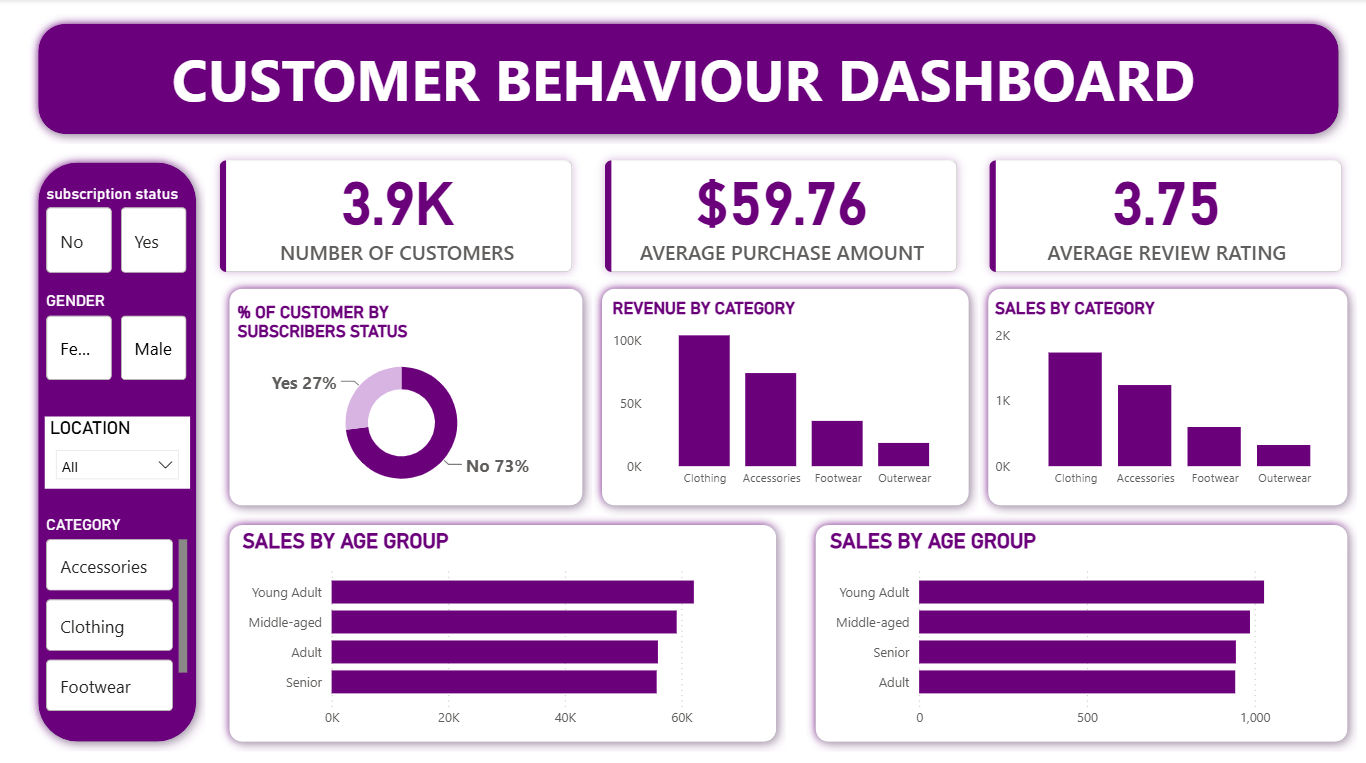

This screenshot's page, from the dashboard's own definition file:
{"tool":"powerbi","page":{"name":"Page 1","canvas":[1280,720],"ordinal":0},"visuals":[{"type":"cardVisual","fields":{"Data":["customer_behavior customer.Number of Customers","customer_behavior customer.Average Purchase Amount","customer_behavior customer.Average Review Rating"]},"box":[180.2,122.1,1100,160.5],"z":0},{"type":"shape","box":[30.2,14,1227.9,120.9],"z":1000},{"type":"textbox","box":[25.6,32.6,1227.9,82.6],"z":2000},{"type":"shape","box":[208.1,260.5,346.5,219.8],"z":3000},{"type":"donutChart","title":"% OF CUSTOMER BY SUBSCRIBERS STATUS","fields":{"Category":["customer_behavior customer.subscription_status"],"Y":["CountNonNull(customer_behavior customer.customer_id)"]},"box":[219.8,282.6,315.1,183.7],"z":4000},{"type":"shape","box":[554.7,260.5,359.3,219.8],"z":5000},{"type":"shape","box":[914,260.5,352.3,219.8],"z":6000},{"type":"clusteredColumnChart","title":"REVENUE BY CATEGORY","fields":{"Y":["Sum(customer_behavior customer.purchase_amount)"],"Category":["customer_behavior customer.category"]},"box":[568.6,279.1,331.4,183.7],"z":7000},{"type":"clusteredColumnChart","title":"SALES BY CATEGORY","fields":{"Y":["CountNonNull(customer_behavior customer.customer_id)"],"Category":["customer_behavior customer.category"]},"box":[924.4,279.1,331.4,183.7],"z":8000},{"type":"shape","box":[30.2,143,165.1,557],"z":9000},{"type":"advancedSlicerVisual","title":"subscription status","fields":{"Values":["customer_behavior customer.subscription_status"]},"box":[41.9,172.1,141.9,88.4],"z":10000},{"type":"advancedSlicerVisual","title":"GENDER","fields":{"Values":["customer_behavior customer.gender"]},"box":[41.9,272.1,141.9,88.4],"z":11000},{"type":"advancedSlicerVisual","title":"CATEGORY","fields":{"Values":["customer_behavior customer.category"]},"box":[41.9,480.2,141.9,188.4],"z":12000},{"type":"slicer","title":"LOCATION","fields":{"Values":["customer_behavior customer.location"]},"box":[45.3,388.4,134.9,67.4],"z":13000},{"type":"shape","box":[208.1,480.2,526.7,219.8],"z":14000},{"type":"clusteredBarChart","title":"SALES BY AGE GROUP","fields":{"Category":["customer_behavior customer.age_group"],"Y":["Sum(customer_behavior customer.purchase_amount)"]},"box":[224.4,493,482.6,194.2],"z":15000},{"type":"shape","box":[753.5,480.2,512.8,219.8],"z":16000},{"type":"clusteredBarChart","title":"SALES BY AGE GROUP","fields":{"Category":["customer_behavior customer.age_group"],"Y":["CountNonNull(customer_behavior customer.customer_id)"]},"box":[770.9,493,482.6,194.2],"z":17000}]}

Visuals, with their boxes in screenshot pixels (x1, y1, x2, y2), scaled from the page's 1280x720 canvas onto the 1366x763 screenshot:
cardVisual - customer_behavior customer.Number of Customers x customer_behavior customer.Average Purchase Amount: BBox(192, 129, 1365, 299)
shape: BBox(32, 15, 1343, 143)
textbox: BBox(27, 35, 1338, 122)
shape: BBox(222, 276, 592, 509)
"% OF CUSTOMER BY SUBSCRIBERS STATUS" donutChart: BBox(235, 299, 571, 494)
shape: BBox(592, 276, 975, 509)
shape: BBox(975, 276, 1351, 509)
"REVENUE BY CATEGORY" clusteredColumnChart: BBox(607, 296, 960, 490)
"SALES BY CATEGORY" clusteredColumnChart: BBox(987, 296, 1340, 490)
shape: BBox(32, 152, 208, 742)
"subscription status" advancedSlicerVisual: BBox(45, 182, 196, 276)
"GENDER" advancedSlicerVisual: BBox(45, 288, 196, 382)
"CATEGORY" advancedSlicerVisual: BBox(45, 509, 196, 709)
"LOCATION" slicer: BBox(48, 412, 192, 483)
shape: BBox(222, 509, 784, 742)
"SALES BY AGE GROUP" clusteredBarChart: BBox(239, 522, 755, 728)
shape: BBox(804, 509, 1351, 742)
"SALES BY AGE GROUP" clusteredBarChart: BBox(823, 522, 1338, 728)
